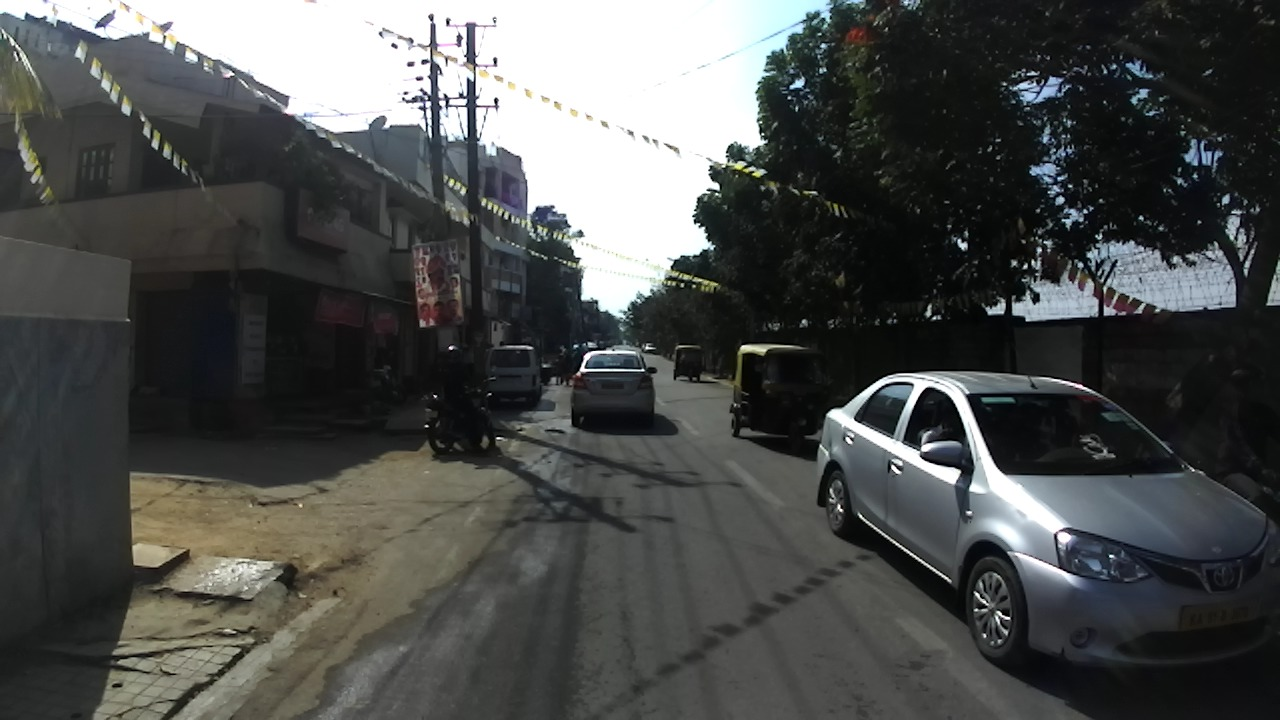autorickshaw: (728, 344, 830, 450), (672, 344, 705, 381)
car: (817, 362, 1280, 674), (570, 350, 657, 428), (488, 346, 542, 409), (607, 344, 638, 352), (641, 341, 658, 354), (582, 341, 600, 352)
motorcycle: (420, 365, 508, 455), (1188, 456, 1280, 530), (364, 361, 406, 409), (539, 357, 552, 387)
person: (558, 340, 570, 385), (553, 348, 565, 387), (572, 348, 582, 376), (577, 342, 586, 359), (583, 340, 589, 356), (496, 340, 505, 347)
rider: (1216, 369, 1273, 518), (440, 344, 500, 453)
vehicle fallback: (573, 343, 587, 357), (595, 339, 606, 350)
